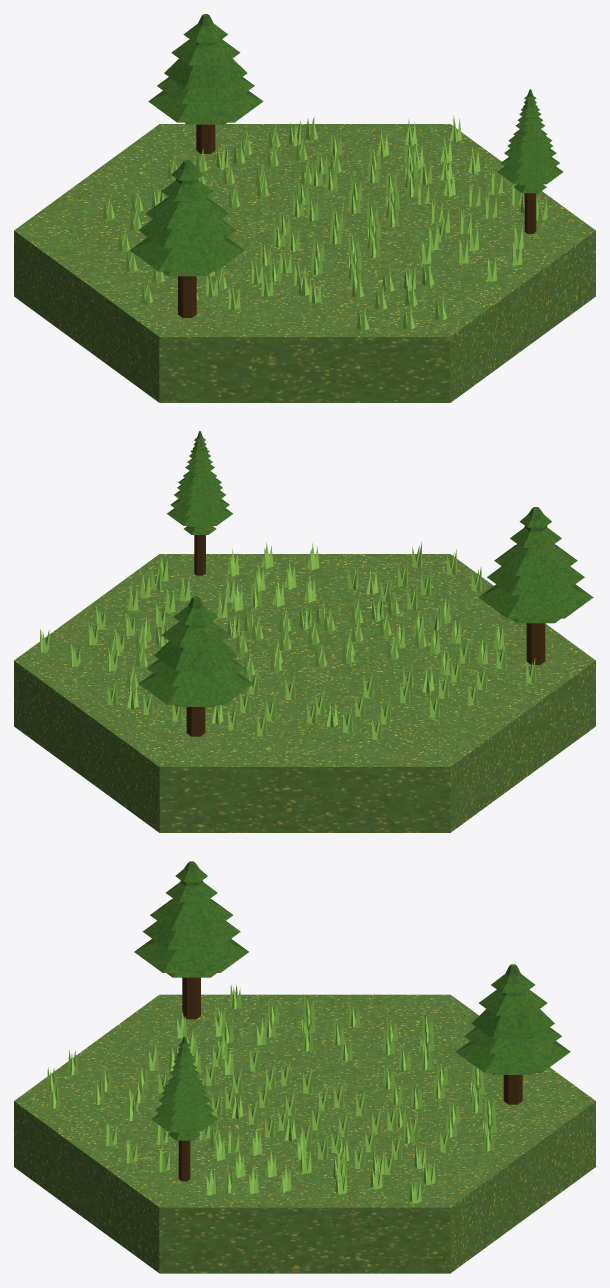
The model's file is Hex_Plains_Test.fbx.
3 views of the same model, one above another, from view 1: azimuth 30°, elevation 25°; view 2: azimuth 150°, elevation 25°; view 3: azimuth 270°, elevation 25° (orthographic).
Parts seen in each view (by area): view 1: Plains.001, Plains, Tree Large.001, Tree.001, Tree Tall.001; view 2: Plains.001, Plains, Tree Large.001, Tree.001, Tree Tall.001; view 3: Plains.001, Plains, Tree Large.001, Tree.001, Tree Tall.001.
Part boxes in pixels (x1=…): Plains.001: x1=14, y1=124, x2=595, y2=402; Plains: x1=103, y1=115, x2=547, y2=331; Tree Large.001: x1=130, y1=160, x2=244, y2=317; Tree.001: x1=148, y1=14, x2=263, y2=153; Tree Tall.001: x1=497, y1=89, x2=563, y2=233; Plains.001: x1=14, y1=554, x2=595, y2=832; Plains: x1=39, y1=542, x2=536, y2=740; Tree Large.001: x1=478, y1=507, x2=593, y2=664; Tree.001: x1=138, y1=596, x2=253, y2=736; Tree Tall.001: x1=167, y1=431, x2=232, y2=575; Plains.001: x1=14, y1=994, x2=595, y2=1273; Plains: x1=47, y1=984, x2=496, y2=1203; Tree Large.001: x1=134, y1=861, x2=248, y2=1019; Tree.001: x1=455, y1=964, x2=570, y2=1104; Tree Tall.001: x1=151, y1=1036, x2=217, y2=1181.
Size of the model in its own units: 346 by 166 by 400.
Materials: 8 (8 with a texture image).
